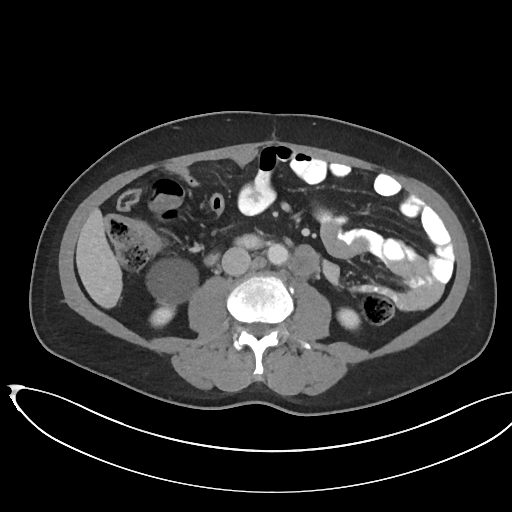Lesion: (145, 256, 202, 304)
